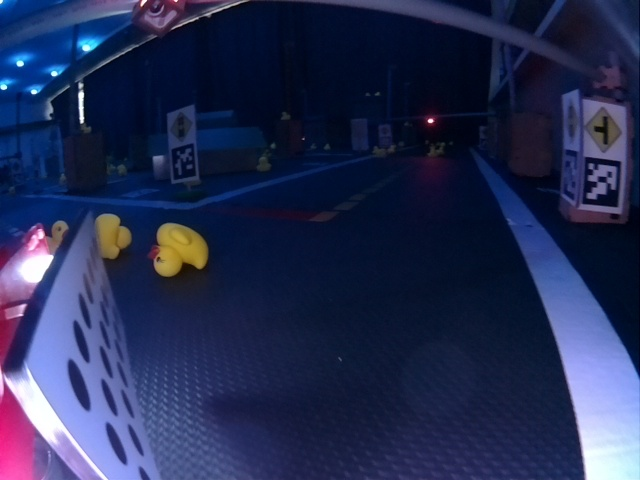Duckie: (151, 222, 208, 278), (97, 214, 131, 260), (257, 157, 271, 171), (117, 165, 127, 174), (377, 148, 386, 157), (428, 147, 438, 155), (280, 113, 289, 121)
Duckiebot: (1, 214, 155, 478)
Intersection sign: (586, 109, 621, 149)
QR code: (586, 159, 620, 205), (173, 149, 197, 181), (561, 150, 577, 198)
Signal sign: (169, 113, 192, 141), (562, 100, 578, 139)
